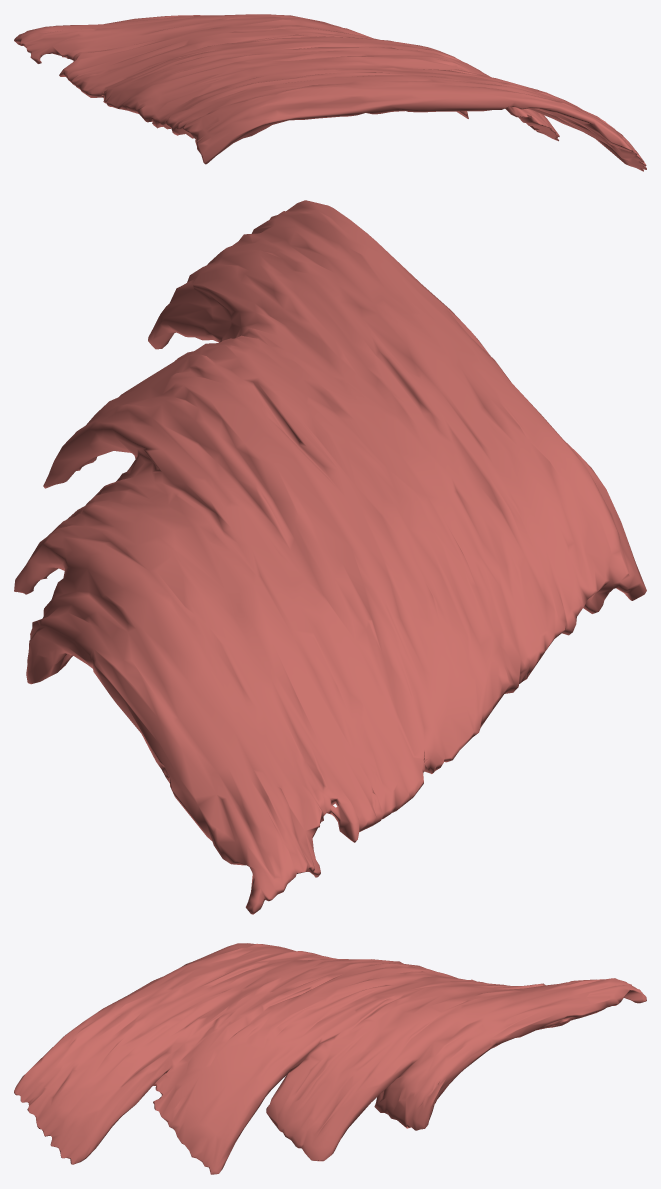
The picture shows the model from 3 angles, top to bottom: view 1: azimuth 30°, elevation 25°; view 2: azimuth 150°, elevation 25°; view 3: azimuth 270°, elevation 25°; orthographic projection. The views are drawn at different scales.
Parts seen in each view (by area): view 1: 左侧下后锯肌; view 2: 左侧下后锯肌; view 3: 左侧下后锯肌.
Boxes of the visible parts, x1,y1,x2,y2 form: 左侧下后锯肌: (14, 14, 646, 171); 左侧下后锯肌: (14, 200, 646, 914); 左侧下后锯肌: (14, 943, 646, 1174).
Bounding box in the file's own units: 0.1675 × 0.0547 × 0.2631.
